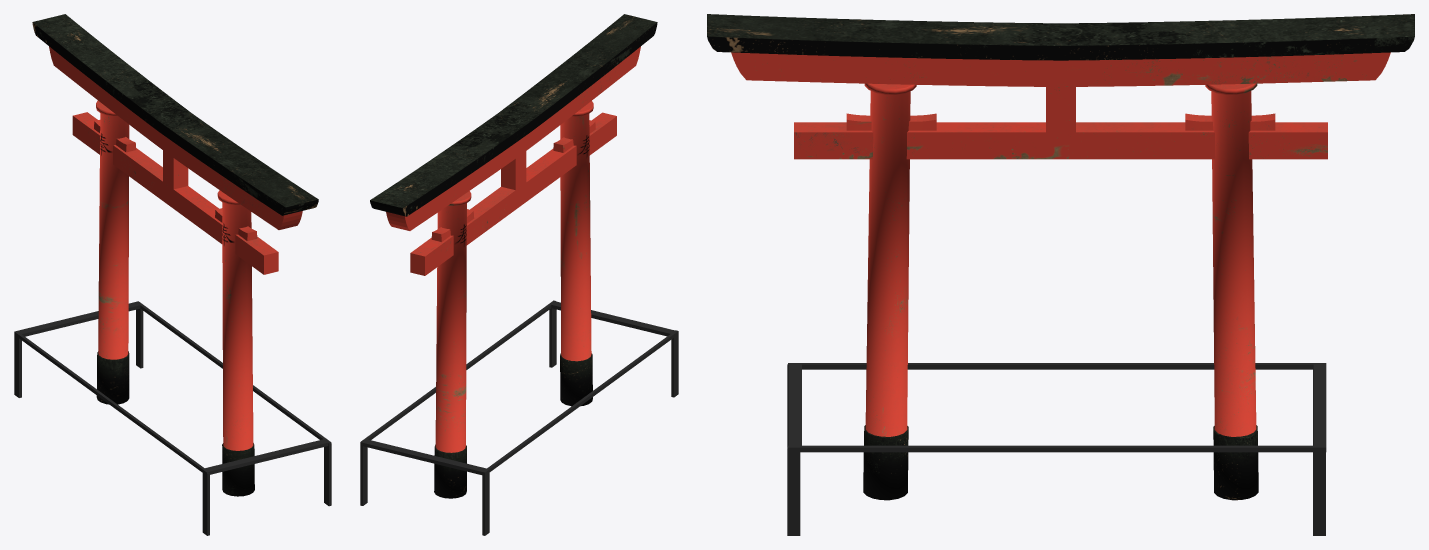
The model's file is toriir.fbx.
3 renders of one model, left to right at view 1: azimuth 30°, elevation 25°; view 2: azimuth 150°, elevation 25°; view 3: azimuth 270°, elevation 25°, orthographic. The views are drawn at different scales.
Visible parts, largest first — view 1: Cylinder, Cube.004, Cube.001, Cube.006, Cube.007, Cube.005, Cube.003, Cube, Cube.002; view 2: Cylinder, Cube.004, Cube.001, Cube.007, Cube.006, Cube.003, Cube.005, Cube.002, Cube; view 3: Cylinder, Cube.001, Cube.004, Cube, Cube.007, Cube.002, Cube.006.
Part boxes in pixels (x1=…): Cylinder: x1=32, y1=14, x2=318, y2=496; Cube.004: x1=14, y1=331, x2=209, y2=473; Cube.001: x1=136, y1=301, x2=331, y2=443; Cube.006: x1=203, y1=439, x2=330, y2=474; Cube.007: x1=17, y1=302, x2=140, y2=336; Cube.005: x1=202, y1=470, x2=209, y2=535; Cube.003: x1=14, y1=333, x2=21, y2=397; Cube: x1=324, y1=443, x2=331, y2=506; Cube.002: x1=136, y1=306, x2=143, y2=368; Cylinder: x1=370, y1=14, x2=657, y2=498; Cube.004: x1=482, y1=330, x2=678, y2=475; Cube.001: x1=360, y1=300, x2=555, y2=442; Cube.007: x1=360, y1=439, x2=486, y2=475; Cube.006: x1=549, y1=301, x2=676, y2=336; Cube.003: x1=482, y1=470, x2=489, y2=535; Cube.005: x1=671, y1=332, x2=678, y2=397; Cube.002: x1=360, y1=445, x2=367, y2=505; Cube: x1=549, y1=308, x2=556, y2=367; Cylinder: x1=707, y1=14, x2=1414, y2=500; Cube.001: x1=788, y1=445, x2=1326, y2=452; Cube.004: x1=788, y1=363, x2=1326, y2=369; Cube: x1=787, y1=447, x2=800, y2=535; Cube.007: x1=1313, y1=364, x2=1326, y2=445; Cube.002: x1=1313, y1=449, x2=1325, y2=535; Cube.006: x1=789, y1=363, x2=801, y2=447.
Bounding box in the file's own units: 157 × 406 × 553.
Materials: 2 (1 with a texture image).
